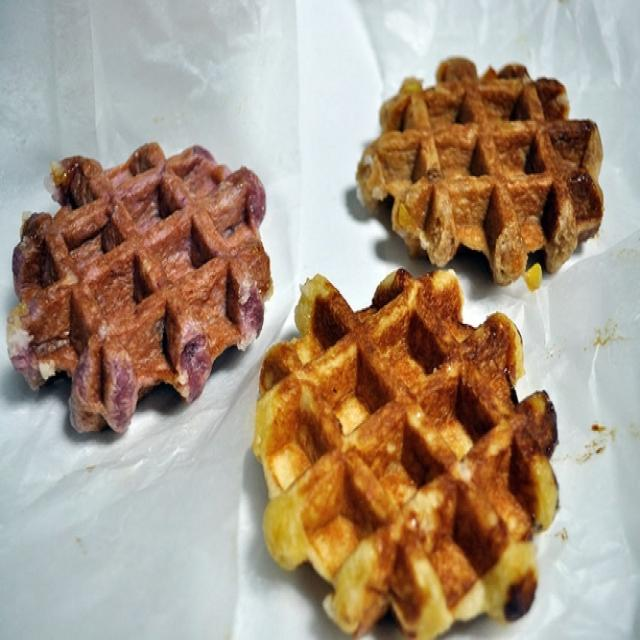炸货点心: (7, 25, 608, 634)
蛋糕甜品: (7, 25, 608, 634)
